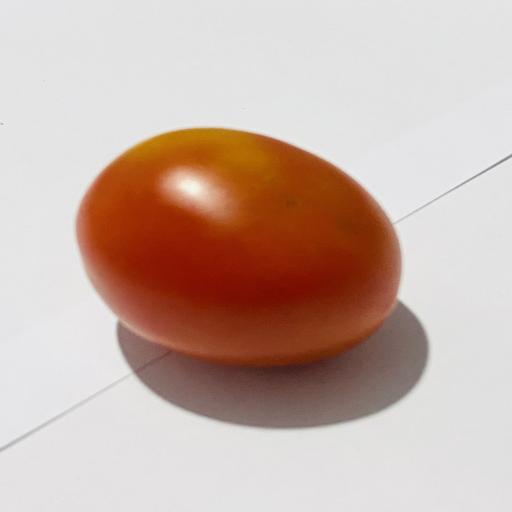ripe: (77, 128, 401, 366)
